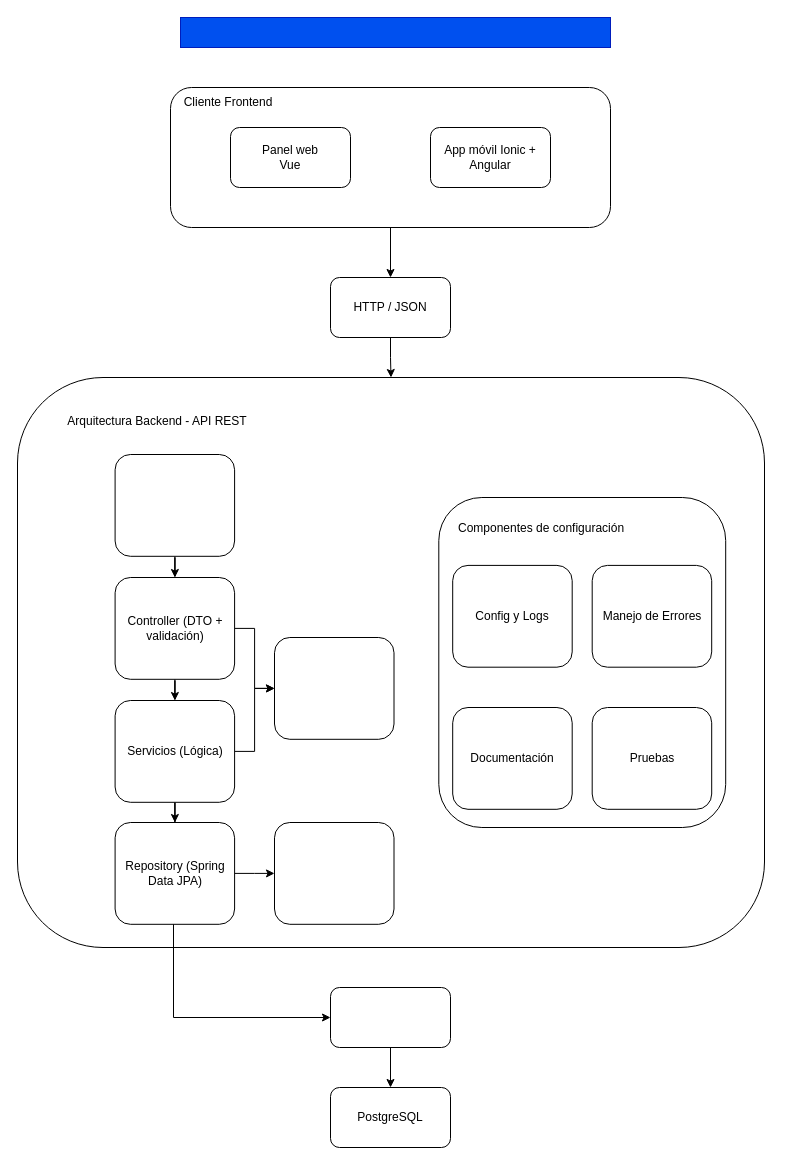
The diagram is 792 pixels wide and 1165 high, and some of its shapes have lost their labels. The shapes that lost their labels are listed below. From the top down, each one's centre as x and y in pixels, then its label:
the point at 395,32: Arquitectura Backend del Sistema
the point at 174,505: Filtros (CORS, JWT/Security)
the point at 334,687: DTOs y Mappers Datos mostrados
the point at 334,873: Entidades JPA Modelo de datos
the point at 390,1017: Driver JDBC
